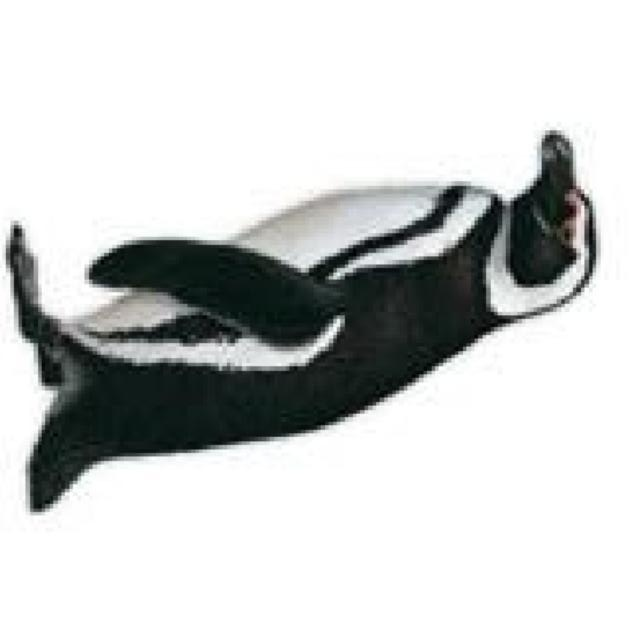penguin: (8, 129, 599, 514)
